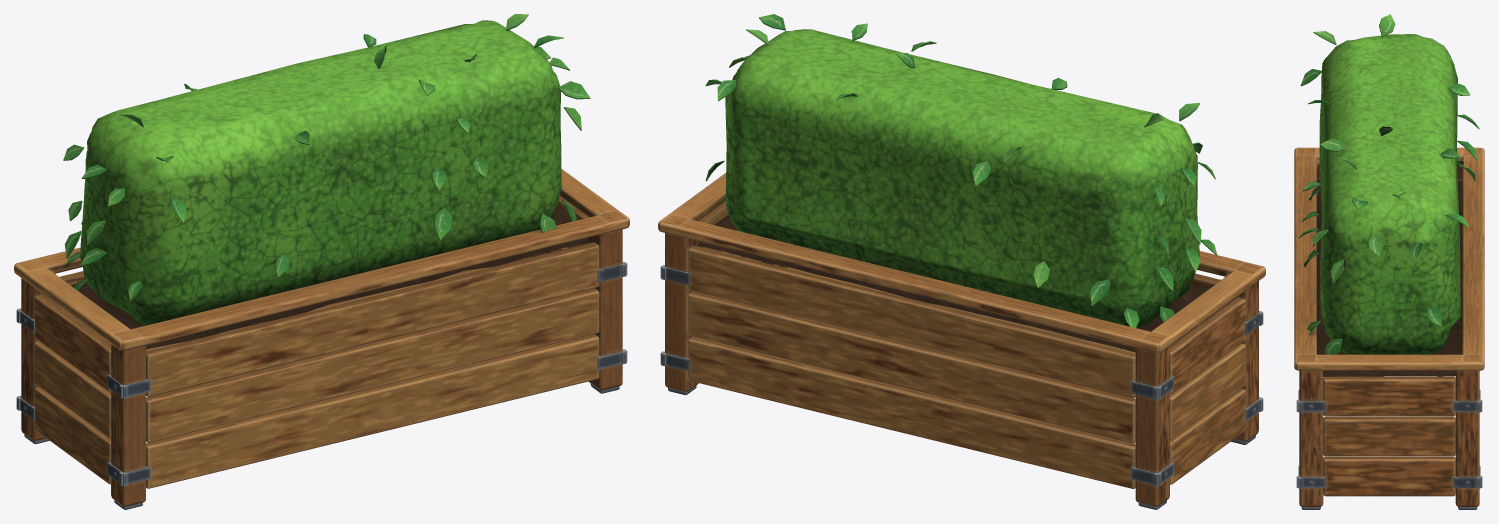
The model's file is hedge-planter.fbx.
3 views of the same model, side by side, from view 1: azimuth 30°, elevation 25°; view 2: azimuth 150°, elevation 25°; view 3: azimuth 270°, elevation 25° (orthographic). The views are drawn at different scales.
Visible parts, largest first — view 1: Anim Sway, Body; view 2: Body, Anim Sway; view 3: Anim Sway, Body.
Boxes of the visible parts, x1,y1,x2,y2 form: Anim Sway: (63, 14, 590, 325); Body: (14, 168, 629, 509); Body: (658, 173, 1265, 509); Anim Sway: (705, 14, 1217, 328); Anim Sway: (1298, 14, 1479, 354); Body: (1294, 147, 1484, 509).
Bounding box in the file's own units: 1.59 × 1.05 × 0.59.
